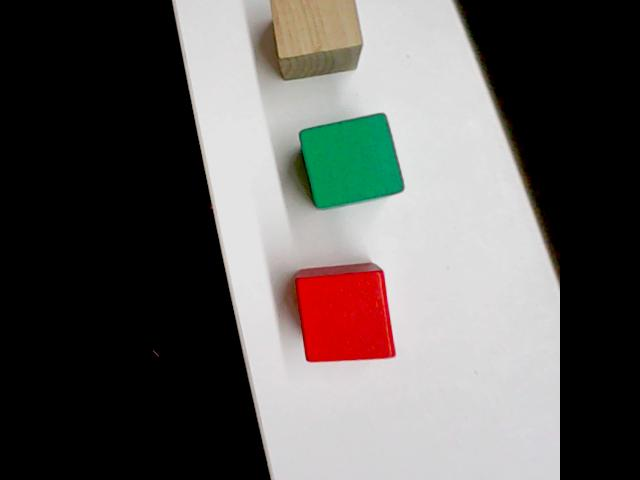green_box: (296, 110, 408, 212)
raw_box: (257, 0, 368, 87)
red_box: (291, 259, 400, 366)
